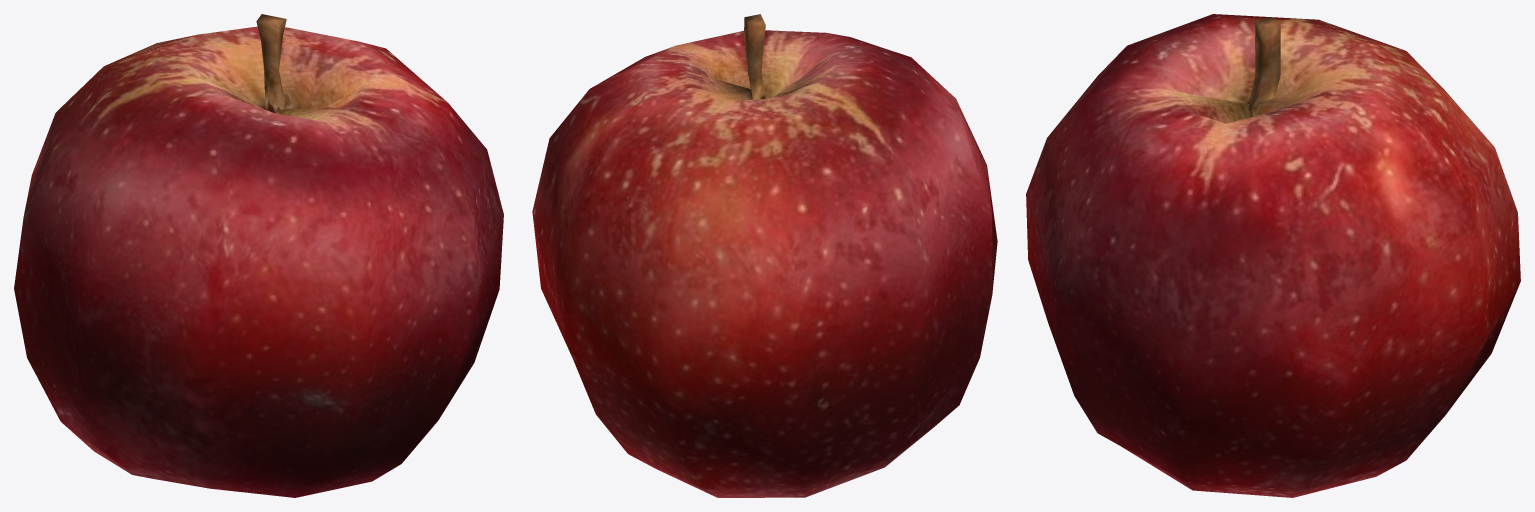
The model's file is A136_Apple_low.fbx.
3 views of the same model, side by side, from view 1: azimuth 30°, elevation 25°; view 2: azimuth 150°, elevation 25°; view 3: azimuth 270°, elevation 25° (orthographic). The views are drawn at different scales.
Parts seen in each view (by area): view 1: A136_Apple_low; view 2: A136_Apple_low; view 3: A136_Apple_low.
Boxes of the visible parts, x1,y1,x2,y2 form: A136_Apple_low: (14,14,503,497); A136_Apple_low: (532,14,997,497); A136_Apple_low: (1026,14,1520,497).
Bounding box in the file's own units: 10.34 × 10.81 × 10.6.
1 material, 1 textured.
